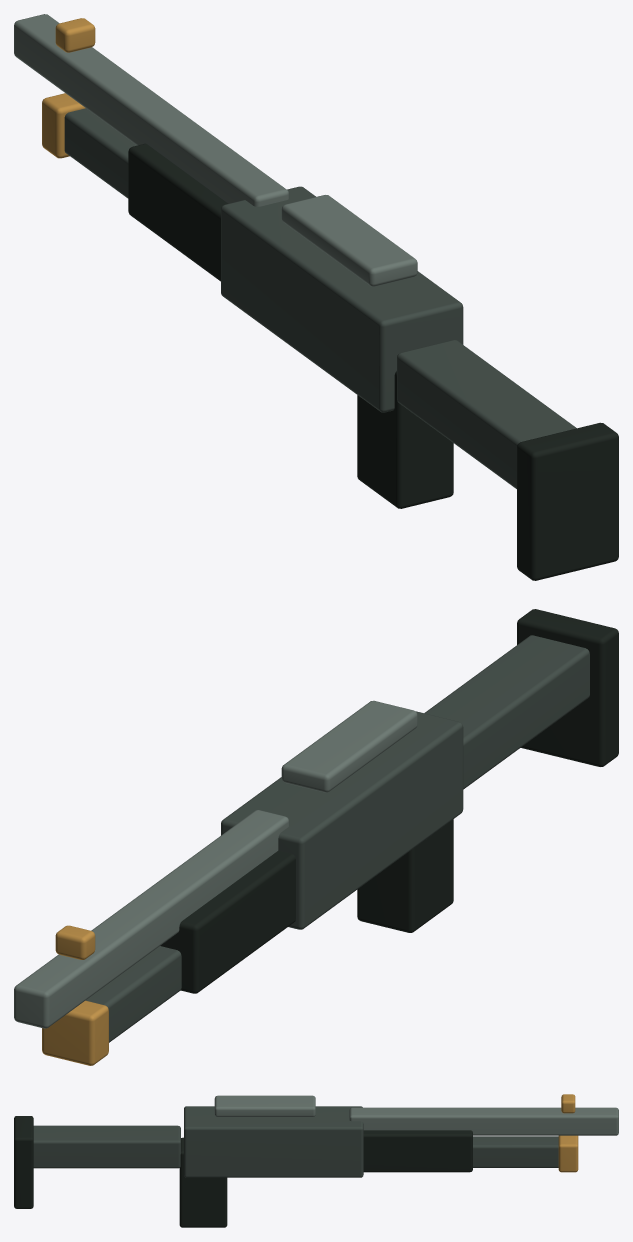
The model's file is security_shotgun.glb.
3 views of the same model, one above another, from view 1: azimuth 30°, elevation 25°; view 2: azimuth 150°, elevation 25°; view 3: azimuth 270°, elevation 25° (orthographic). The views are drawn at different scales.
Parts seen in each view (by area): view 1: Frame, Barrel, StockPad, Stock, Grip, Slide, Rail, Magazine, MagazineBase, Sight; view 2: Frame, Barrel, Stock, Slide, StockPad, Grip, Rail, Magazine, MagazineBase, Sight; view 3: Frame, Barrel, Stock, Slide, Magazine, Grip, Rail, StockPad, MagazineBase, Sight.
Part boxes in pixels (x1,y1,x2,y2): Frame: (221, 186, 463, 412); Barrel: (14, 14, 289, 206); StockPad: (517, 422, 618, 580); Stock: (397, 340, 576, 488); Grip: (357, 371, 453, 508); Slide: (128, 143, 228, 281); Rail: (281, 195, 417, 286); Magazine: (64, 108, 136, 198); MagazineBase: (42, 93, 85, 158); Sight: (55, 18, 95, 52); Frame: (221, 711, 463, 929); Barrel: (14, 810, 289, 1028); Stock: (424, 635, 589, 789); Slide: (160, 850, 295, 993); StockPad: (517, 609, 618, 766); Grip: (357, 819, 453, 932); Rail: (281, 700, 417, 792); Magazine: (85, 946, 181, 1042); MagazineBase: (42, 1000, 108, 1065); Sight: (55, 925, 95, 959); Frame: (184, 1106, 363, 1177); Barrel: (349, 1107, 618, 1135); Stock: (33, 1125, 180, 1168); Slide: (363, 1130, 472, 1172); Magazine: (473, 1136, 558, 1167); Grip: (179, 1137, 227, 1227); Rail: (214, 1095, 315, 1116); StockPad: (14, 1116, 33, 1208); MagazineBase: (558, 1135, 578, 1172); Sight: (561, 1094, 575, 1113).
Bounding box in the file's own units: 0.1 × 0.2425 × 1.08.
